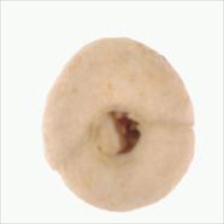L3: (86, 108, 143, 159)
L4: (42, 36, 195, 212)
